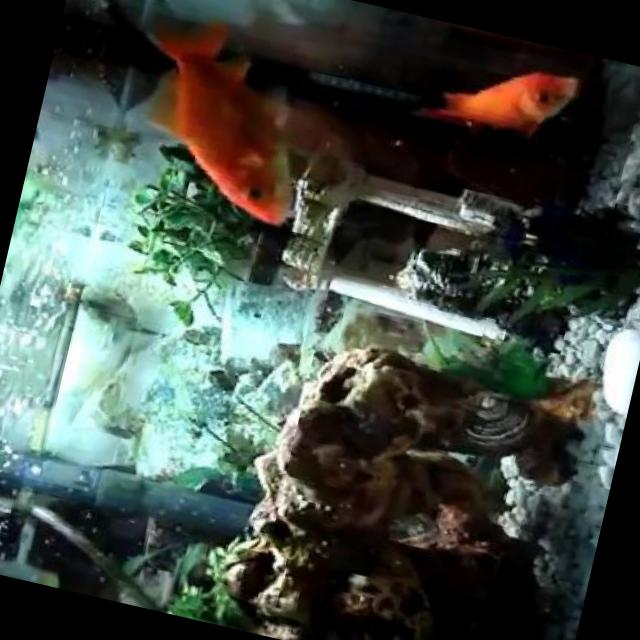GoldFish: (116, 10, 328, 227), (405, 37, 580, 155)
